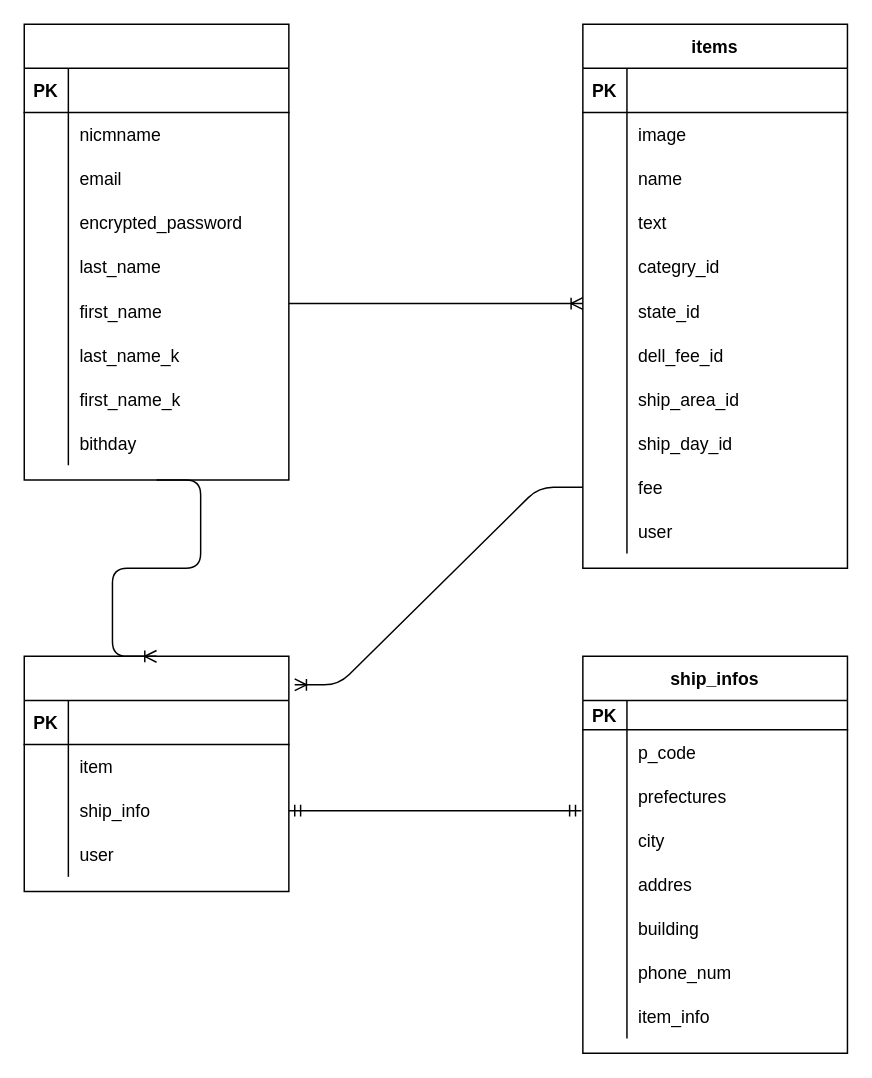
The diagram is 872 pixels wide and 1078 high, and some of its shapes have lost their labels. Here are the shapes that lost their labels. From the top down, the box of each, then its label:
(23, 23, 289, 480): users
(23, 655, 289, 892): purchases
